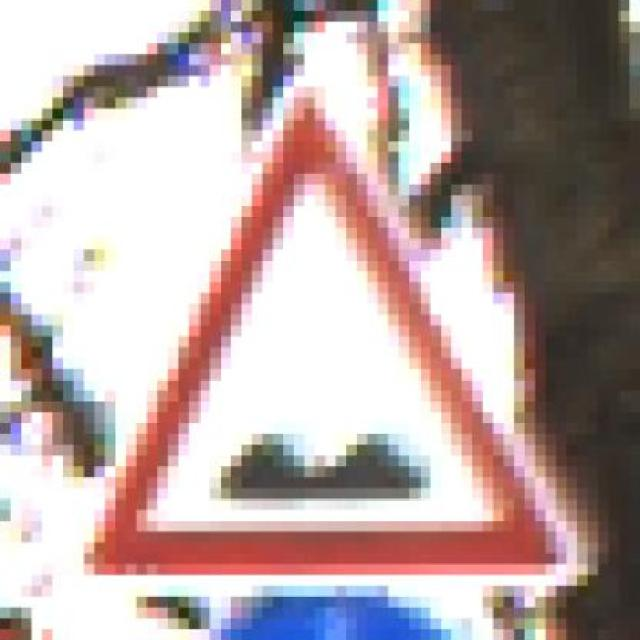Uneven Road: (73, 86, 578, 586)
